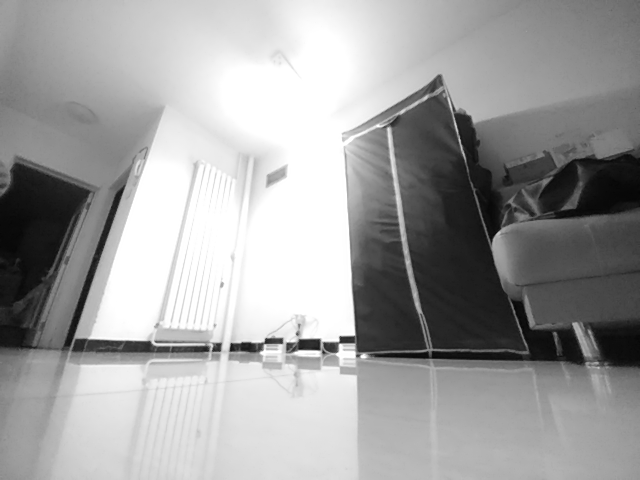Ruby: (259, 337, 286, 356), (336, 335, 356, 357)
TanosV: (294, 337, 322, 357)
